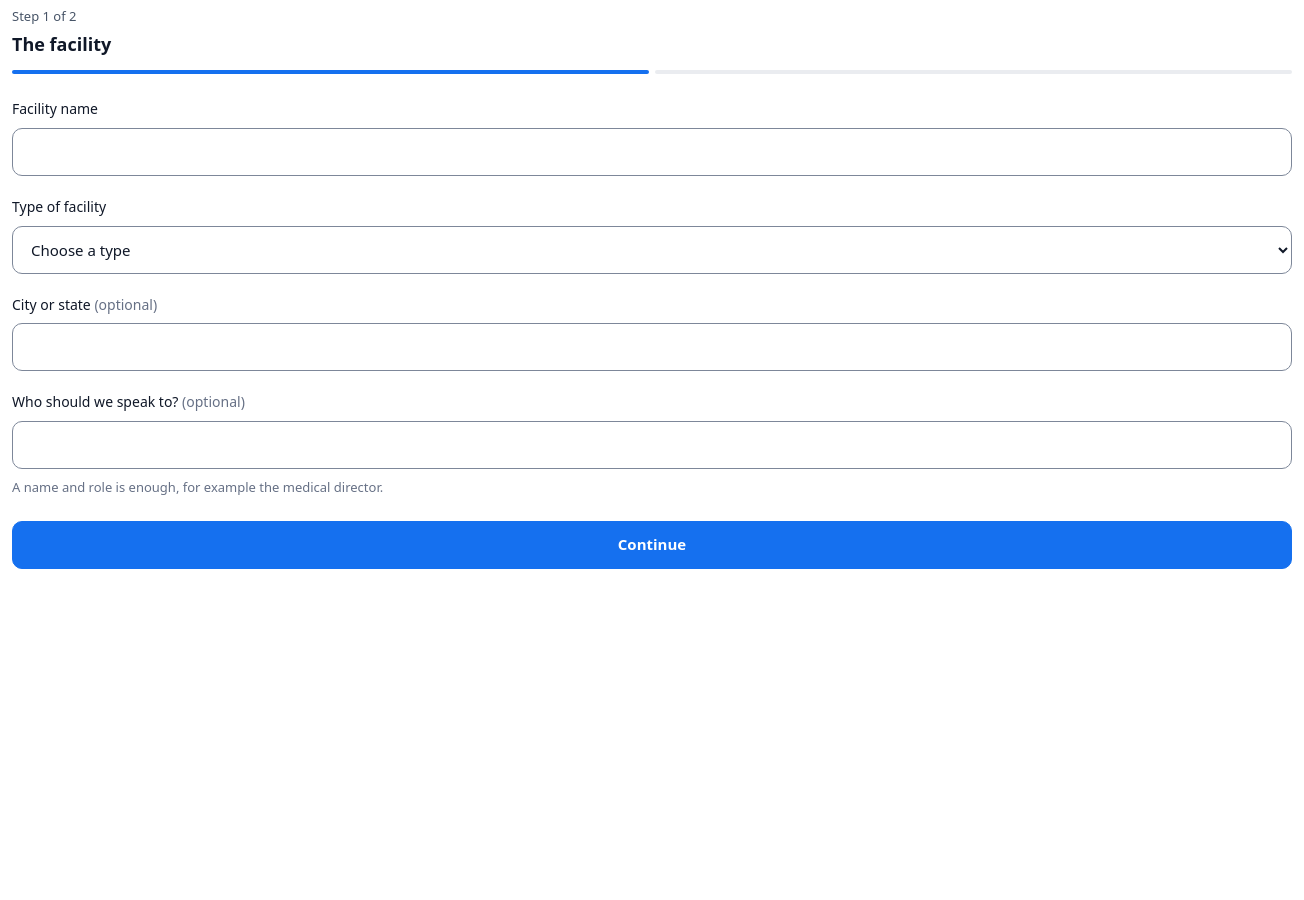
Scenario: referral form › marks and focuses the field hid-system refused (contactEmail)
The width and height of the screenshot is (1304, 900).
Type "Lagos General Hospital" into the field named "facilityName" at (652, 152), box 12,128 -> 1292,176
Select "Clinic" in the dropdown labelled "Type of facility" at (652, 250), box 12,226 -> 1292,274
Click the button "Continue" at (652, 545), box 12,521 -> 1292,569
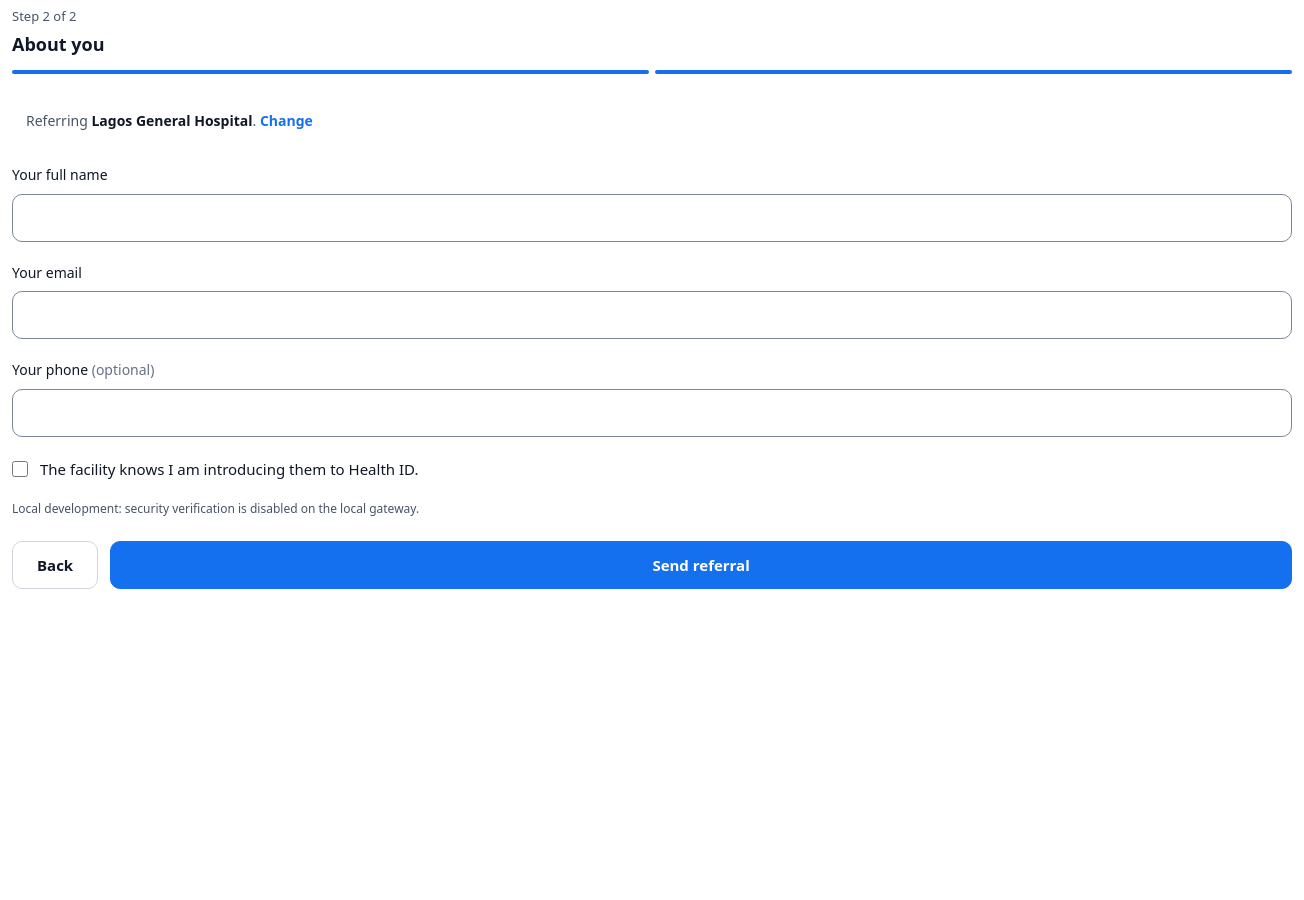
Type "Ada Okafor" into the field named "referrerName" at (652, 218), box 12,194 -> 1292,242
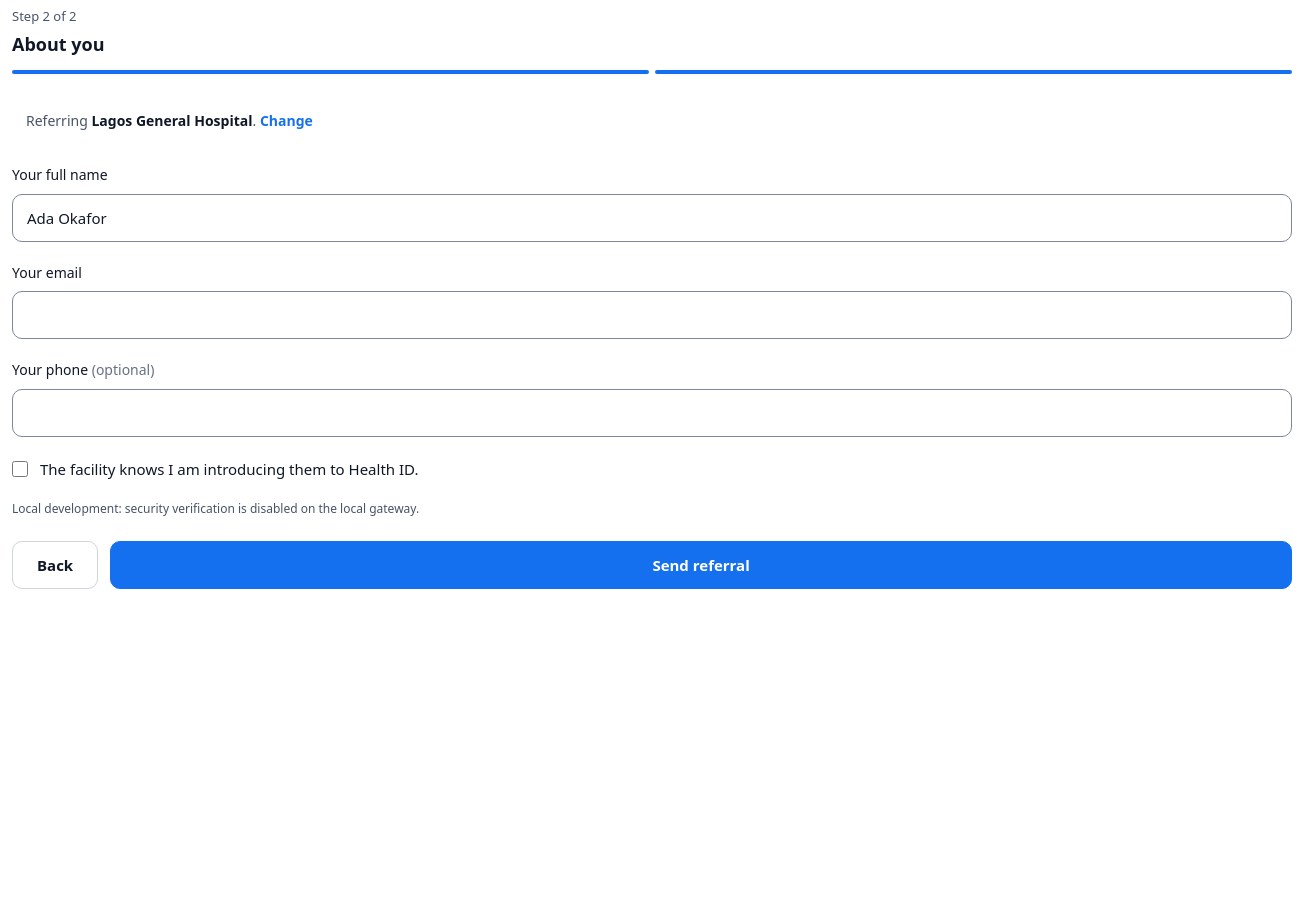
Type "ada@example.test" into the field labelled "Your email" at (652, 315), box 12,291 -> 1292,339
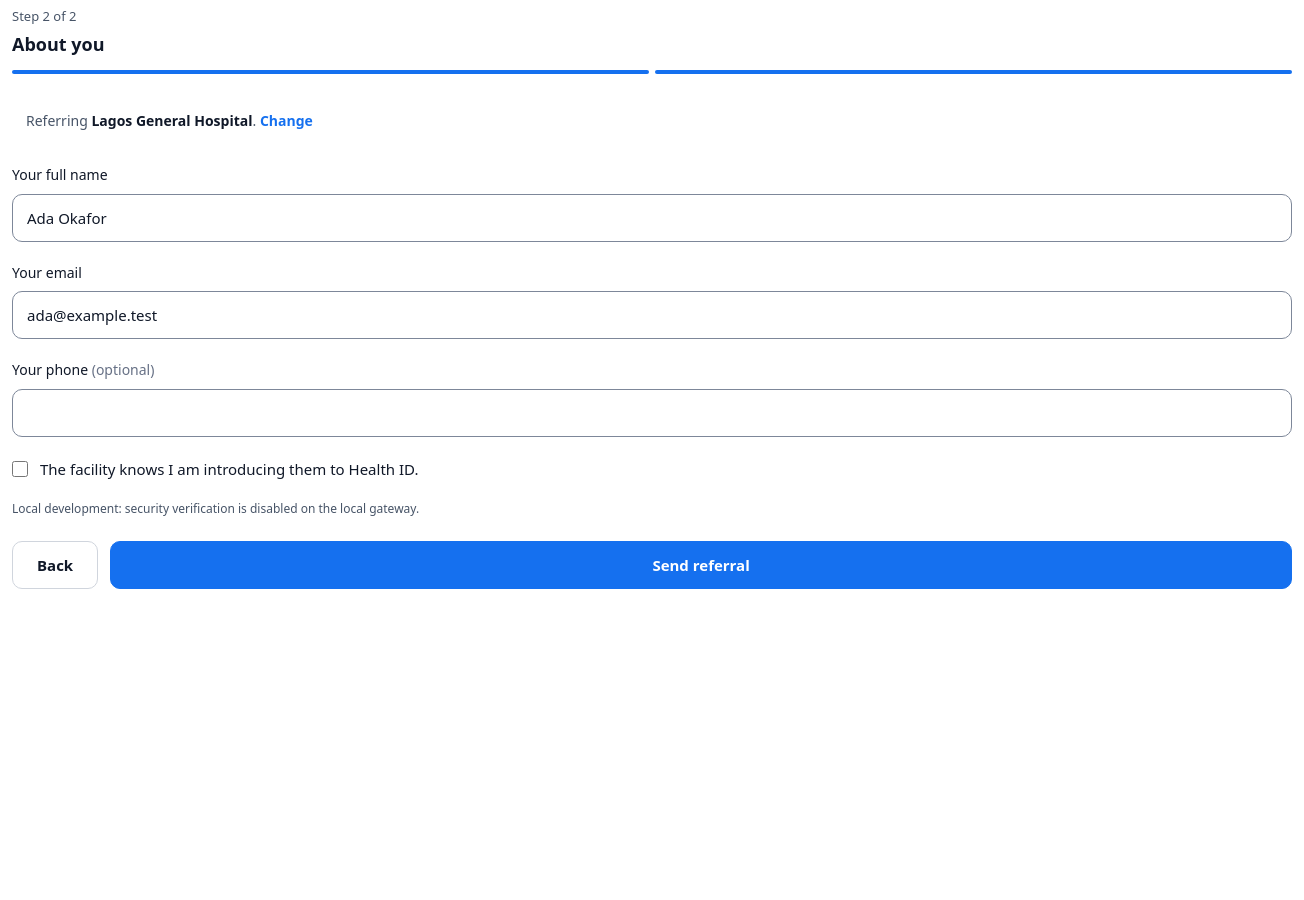
Type "+234 803 000 0000" into the field labelled "Your phone (optional)" at (652, 413), box 12,389 -> 1292,437
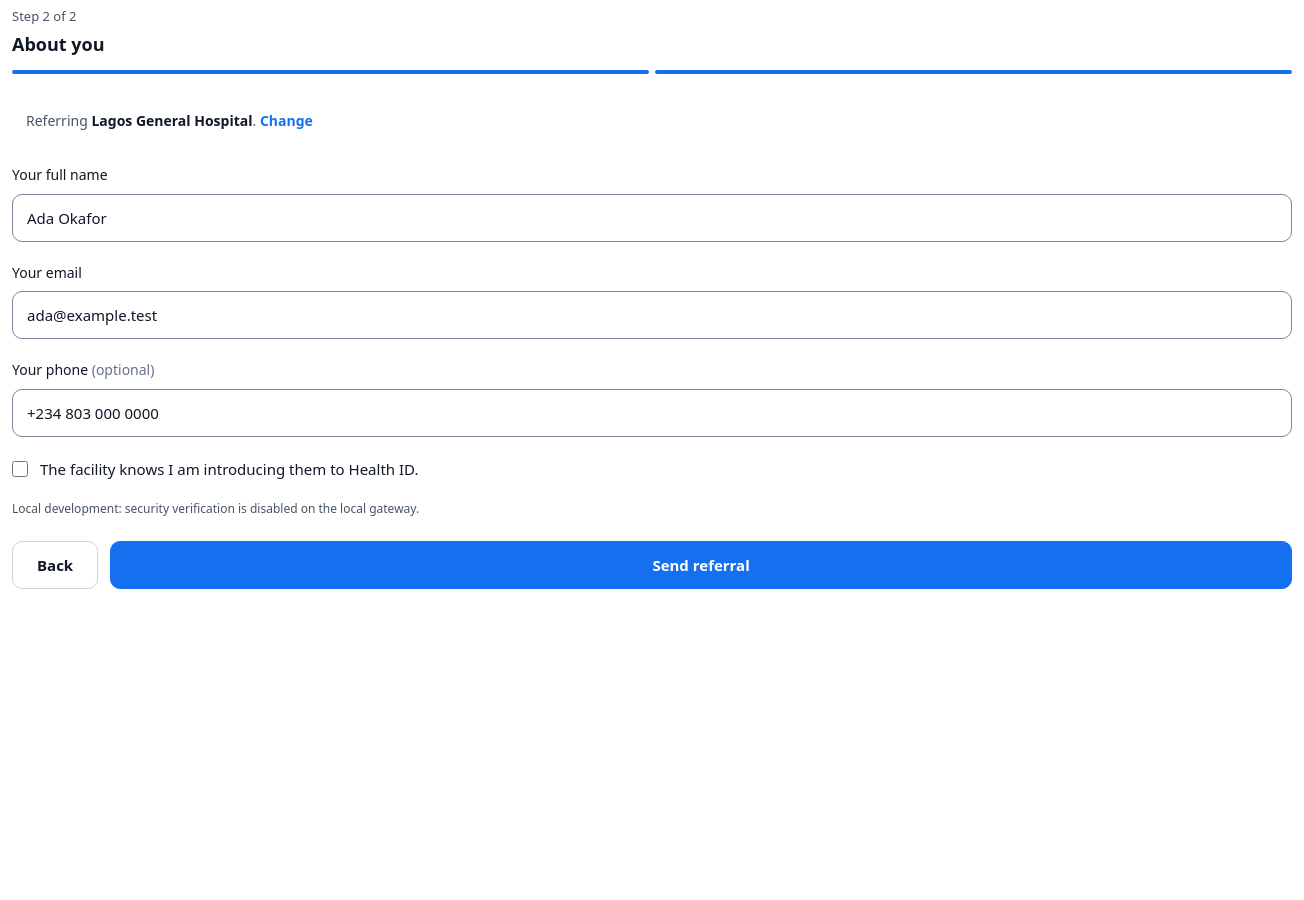
Click the checkbox labelled "The facility knows I am introducing them to Health ID." at (20, 469), box 12,461 -> 28,477
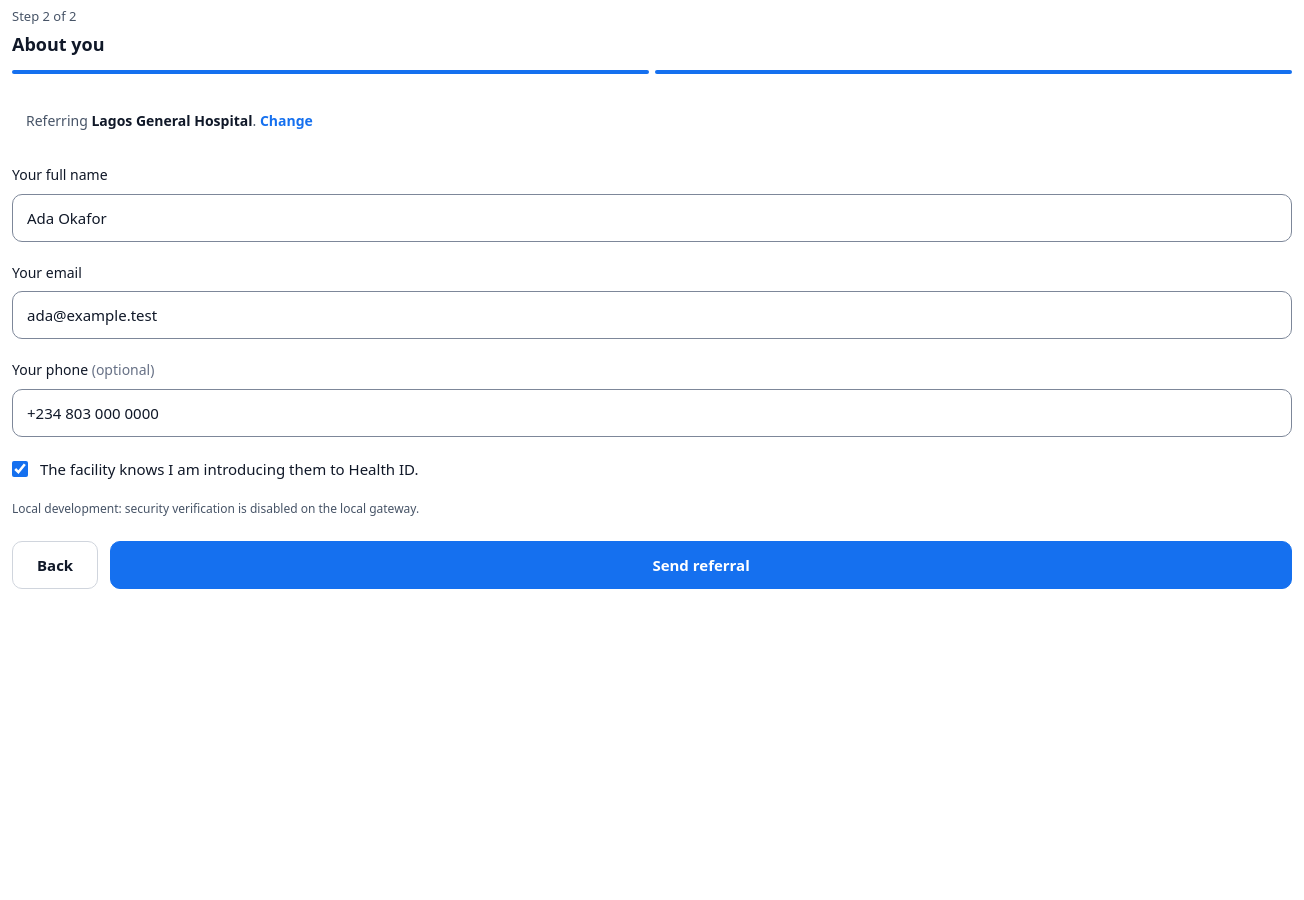
Click the button "Send referral" at (701, 565), box 110,541 -> 1292,589
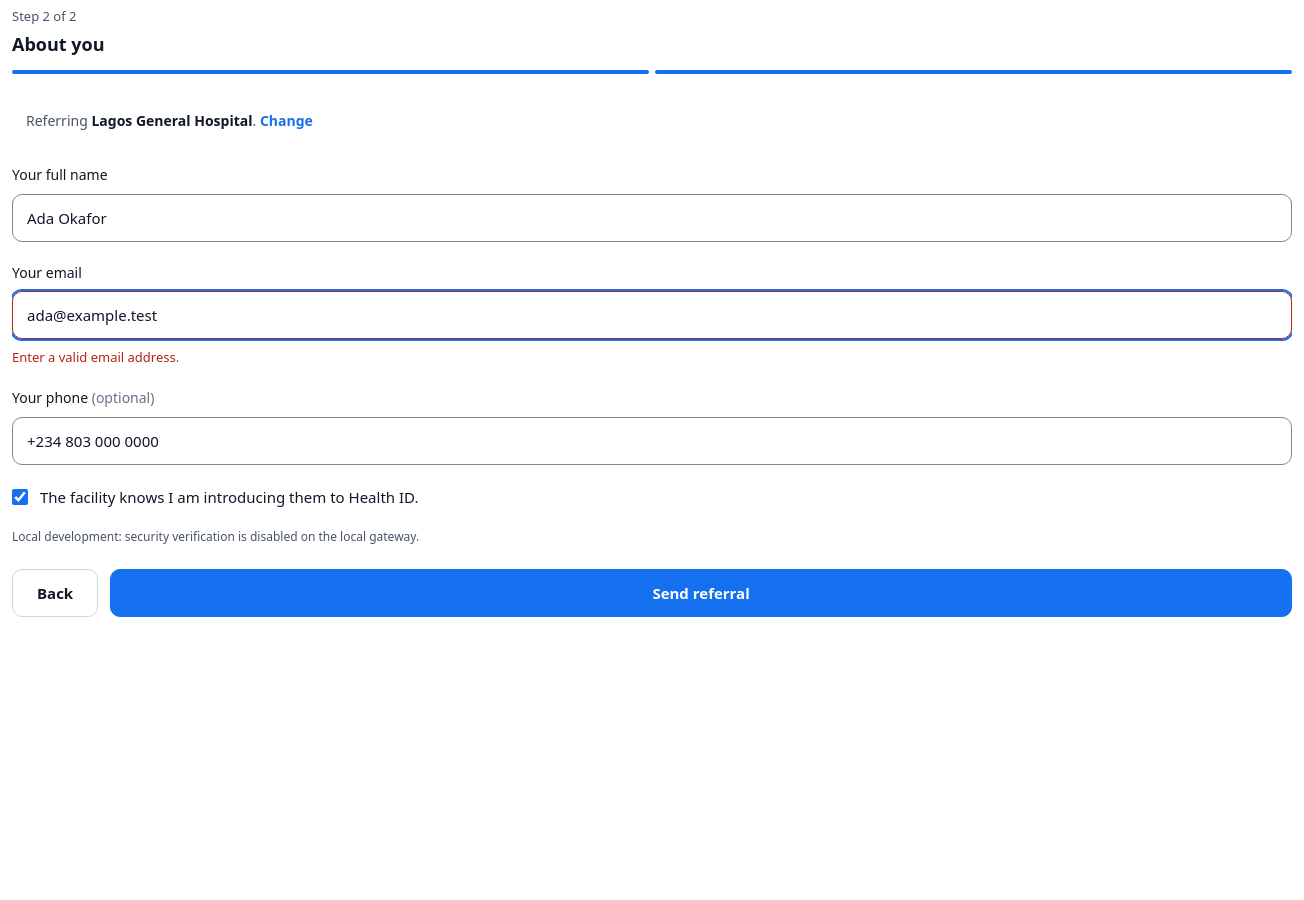
Result: the text "Enter a valid email address." is shown at 12,348 -> 179,366
